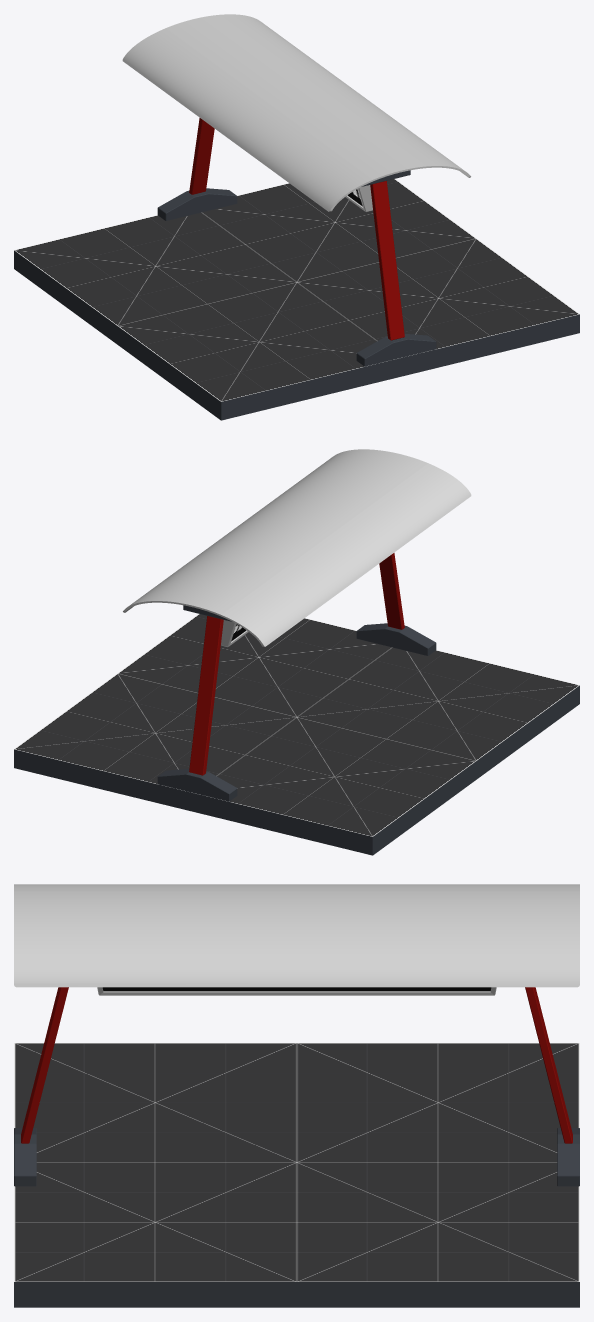
File: Finish.glb
The picture shows the model from 3 angles, top to bottom: view 1: azimuth 30°, elevation 25°; view 2: azimuth 150°, elevation 25°; view 3: azimuth 270°, elevation 25°; orthographic projection. The views are drawn at different scales.
Parts seen in each view (by area): view 1: Floor, Roof, Stands, StandsBase; view 2: Floor, Roof, Stands, StandsBase; view 3: Floor, Roof, Sign, Stands, StandsBase.
Part boxes in pixels (left/top/right/bottom): Floor: left=14, top=179, right=579, bottom=420; Roof: left=122, top=14, right=470, bottom=211; Stands: left=189, top=118, right=404, bottom=340; StandsBase: left=157, top=188, right=436, bottom=366; Floor: left=14, top=614, right=579, bottom=855; Roof: left=123, top=449, right=471, bottom=646; Stands: left=189, top=553, right=404, bottom=775; StandsBase: left=157, top=623, right=436, bottom=801; Floor: left=14, top=1043, right=579, bottom=1307; Roof: left=14, top=884, right=579, bottom=987; Sign: left=97, top=987, right=496, bottom=995; Stands: left=21, top=987, right=572, bottom=1143; StandsBase: left=14, top=1128, right=579, bottom=1186.
Size of the model in its own units: 10 by 5.49 by 10.
5 materials, 2 textured.
